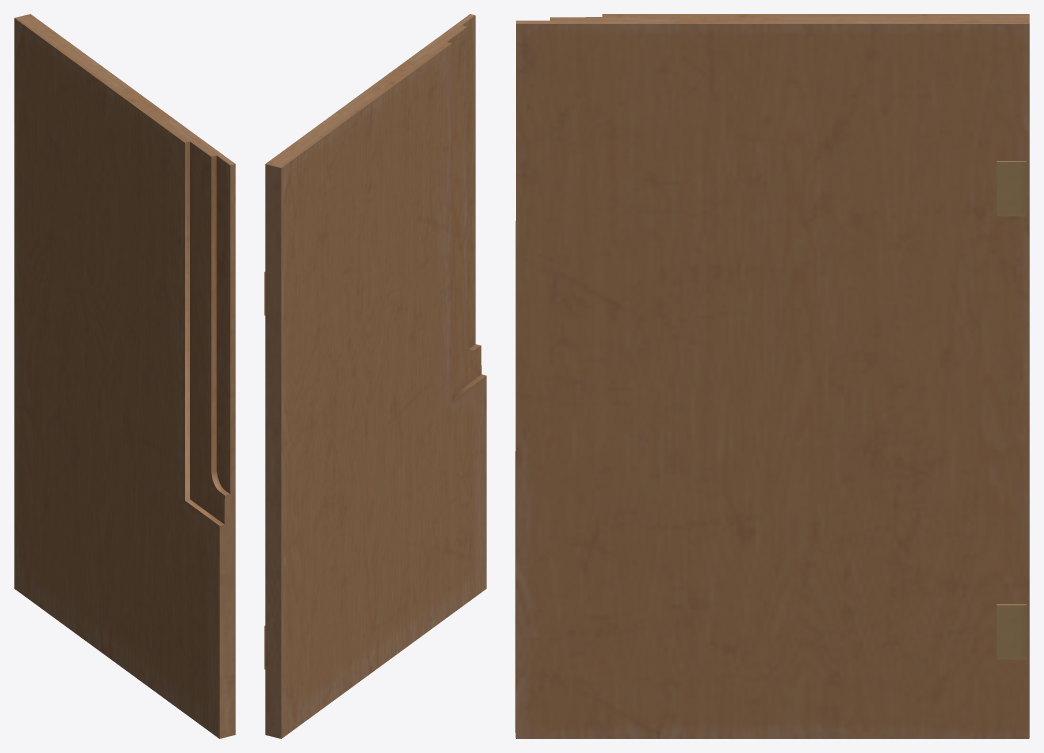
Rendered from SM_Shelf_TV_A1_Door1.fbx.
The picture shows the model from 3 angles, left to right: view 1: azimuth 30°, elevation 25°; view 2: azimuth 150°, elevation 25°; view 3: azimuth 270°, elevation 25°; orthographic projection. The views are drawn at different scales.
Visible parts, largest first — view 1: SM_Shelf_TV_A1_Door1; view 2: SM_Shelf_TV_A1_Door1; view 3: SM_Shelf_TV_A1_Door1.
Boxes of the visible parts, x1,y1,x2,y2 form: SM_Shelf_TV_A1_Door1: (14,14,235,738); SM_Shelf_TV_A1_Door1: (264,14,486,738); SM_Shelf_TV_A1_Door1: (515,14,1029,738).
Bounding box in the file's own units: 1.88 × 36.61 × 56.17.
Materials: 1 (1 with a texture image).
